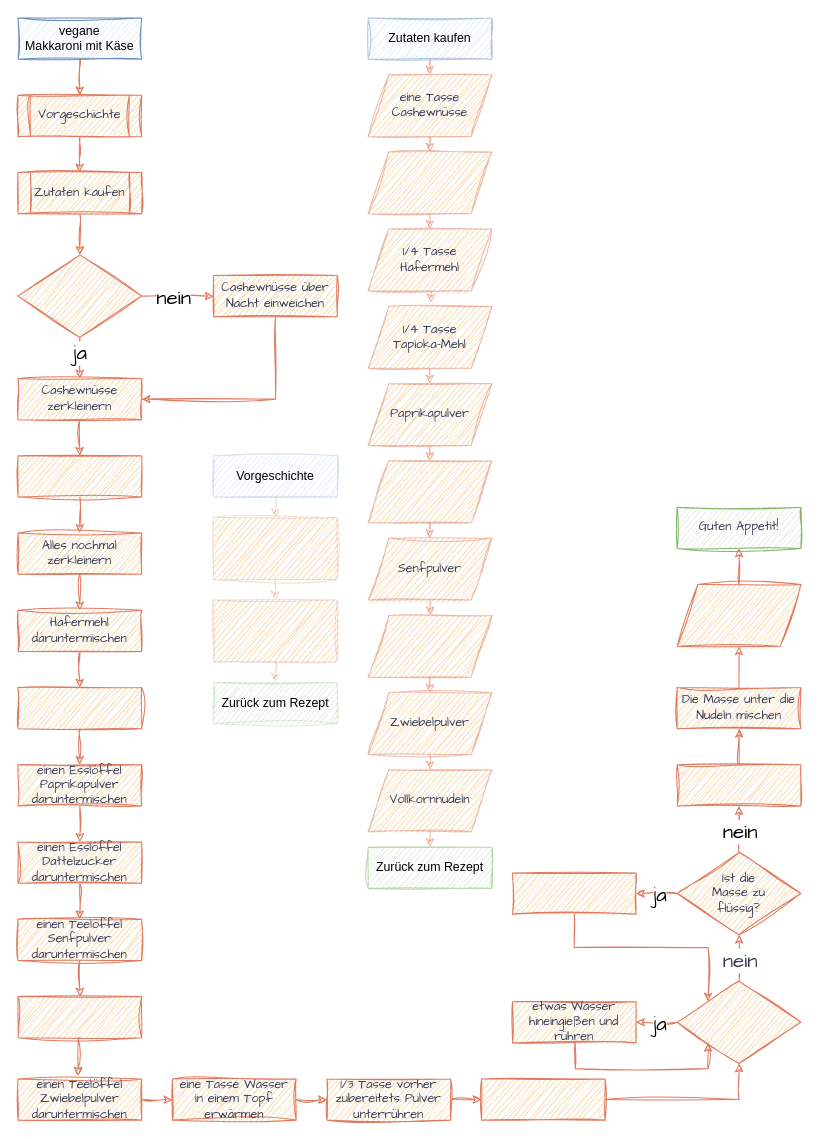
Image size: 819x1139. Some labels were removed from this diagram. The shapes that lost their labels are listed below. From the top down, each one's centre as x and y in pixels, then its label:
point 429,182: 3/4 Tasse Hefeflocken
point 79,295: hast du einen leistungsstarken Mixer?
point 79,476: Hefeflocken daruntermischen
point 429,491: Dattelzucker
point 275,548: Ich habe das Rezept von einer Doku, die " Eating you alive " heißt
point 275,630: Es enthält sehr wenig bis gar kein Fett und Zucker
point 738,614: Makkaroni mit Käse servieren
point 429,645: Meersalz
point 79,707: Tapioka-Mehl daruntermischen
point 738,785: Vollkornnudeln nach Anleitung kochen
point 573,893: etwas von dem zubereitets Pulver unterrühren
point 79,1016: einen Teelöffel Meersalz daruntermischen
point 738,1021: Ist die Masse zu fest?
point 542,1099: evtl. entstandene Klumpen zerdrücken
